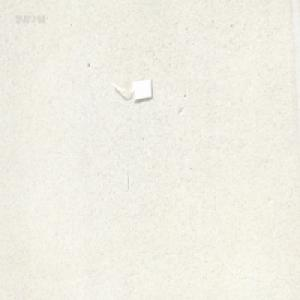LuggageTag: (110, 76, 153, 102)
